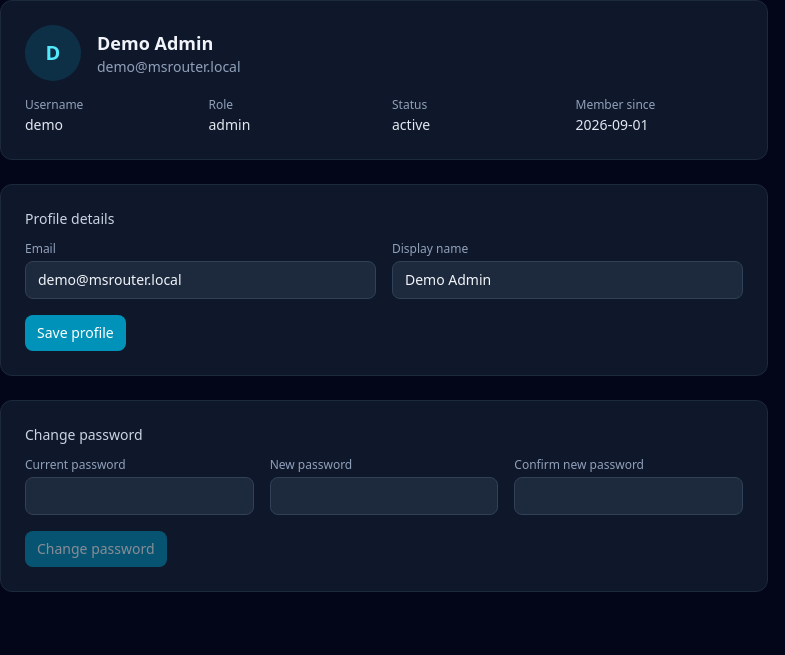
Scenario: ProfilePage › surfaces a wrong current-password error from the server
In the password field labelled "Current password": (139, 496) [25,477,254,515], type "wrong-pass"
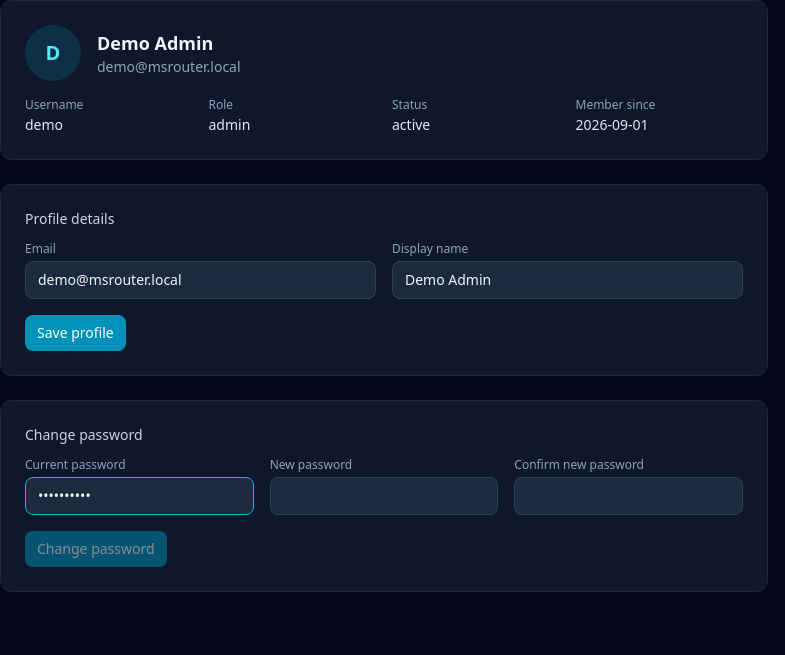
In the password field labelled "New password": (384, 496) [270,477,498,515], type "brand-new-pass"
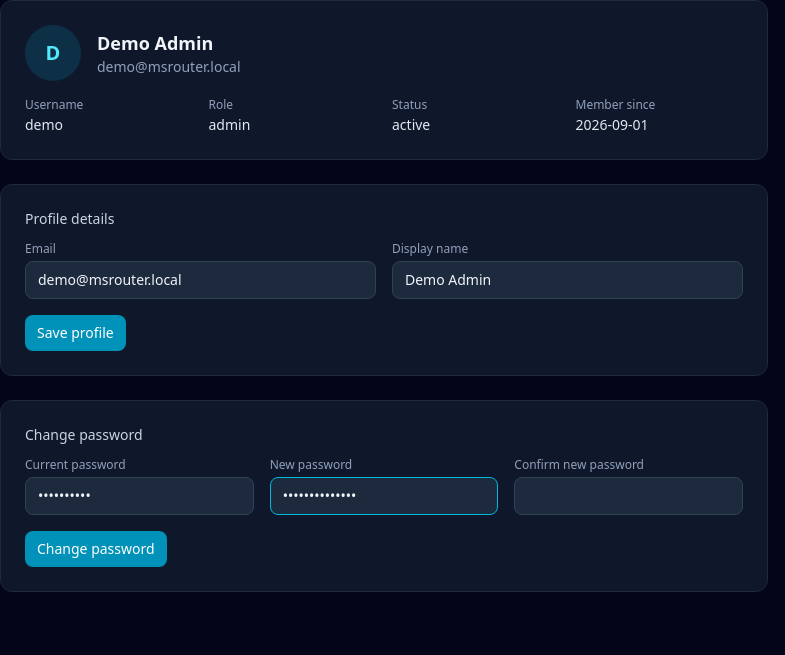
In the password field labelled "Confirm new password": (629, 496) [514,477,743,515], type "brand-new-pass"
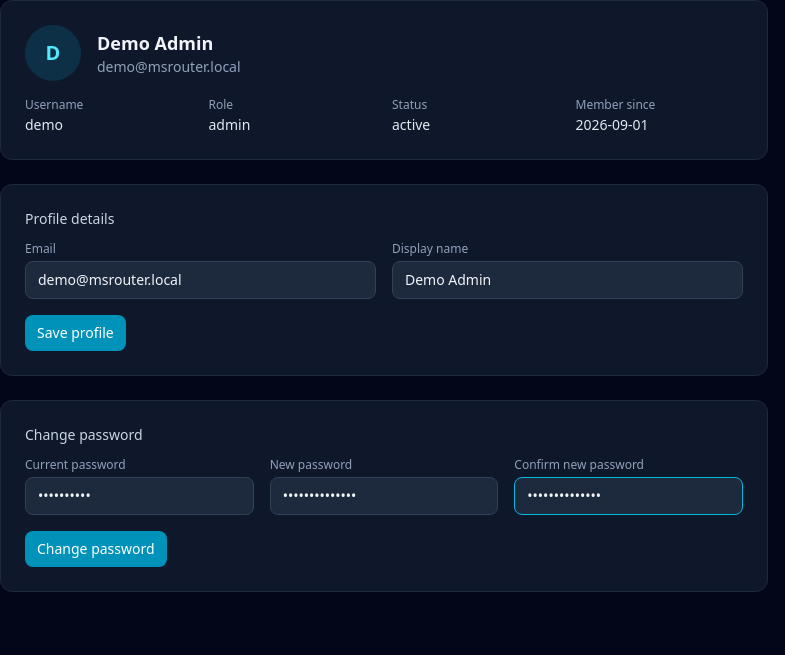
Click the button "Change password": (96, 549) [25,531,167,567]
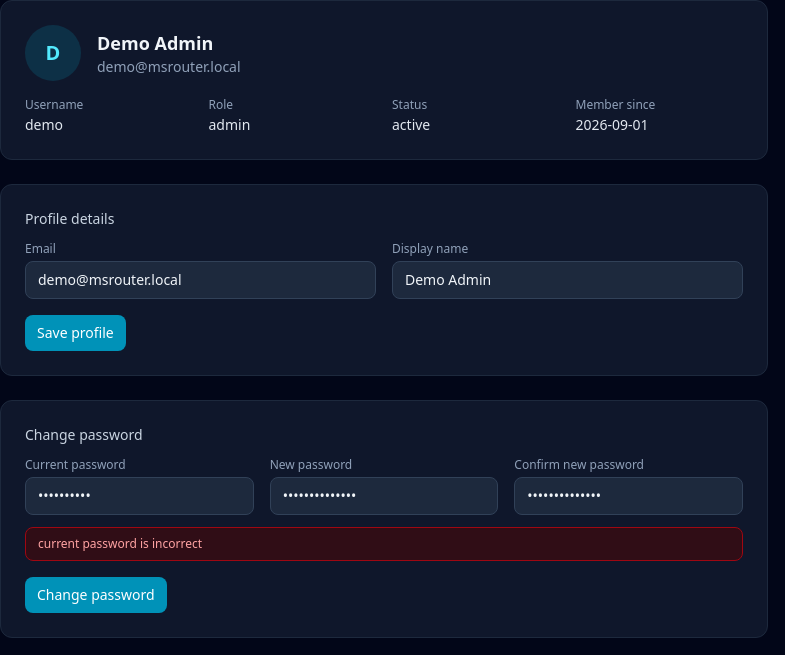
expect the text "current password is incorrect" is shown: met, box [25,527,743,561]
